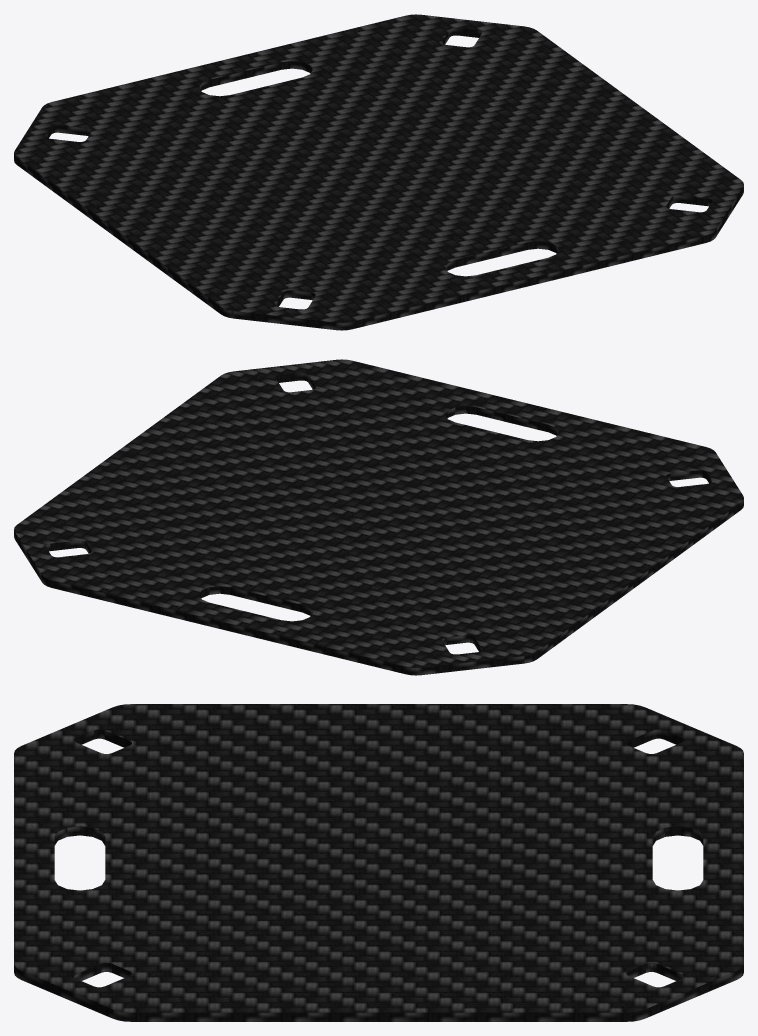
Rendered from top_board_mesh_file.dae.
The picture shows the model from 3 angles, top to bottom: view 1: azimuth 30°, elevation 25°; view 2: azimuth 150°, elevation 25°; view 3: azimuth 270°, elevation 25°; orthographic projection. The views are drawn at different scales.
Parts seen in each view (by area): view 1: Top Board Mesh File; view 2: Top Board Mesh File; view 3: Top Board Mesh File.
Boxes of the visible parts, x1,y1,x2,y2 form: Top Board Mesh File: (14, 14, 743, 330); Top Board Mesh File: (14, 359, 743, 675); Top Board Mesh File: (14, 704, 743, 1021).
Size of the model in its own units: 0.144 by 0.144 by 0.002.
1 material, 1 textured.
